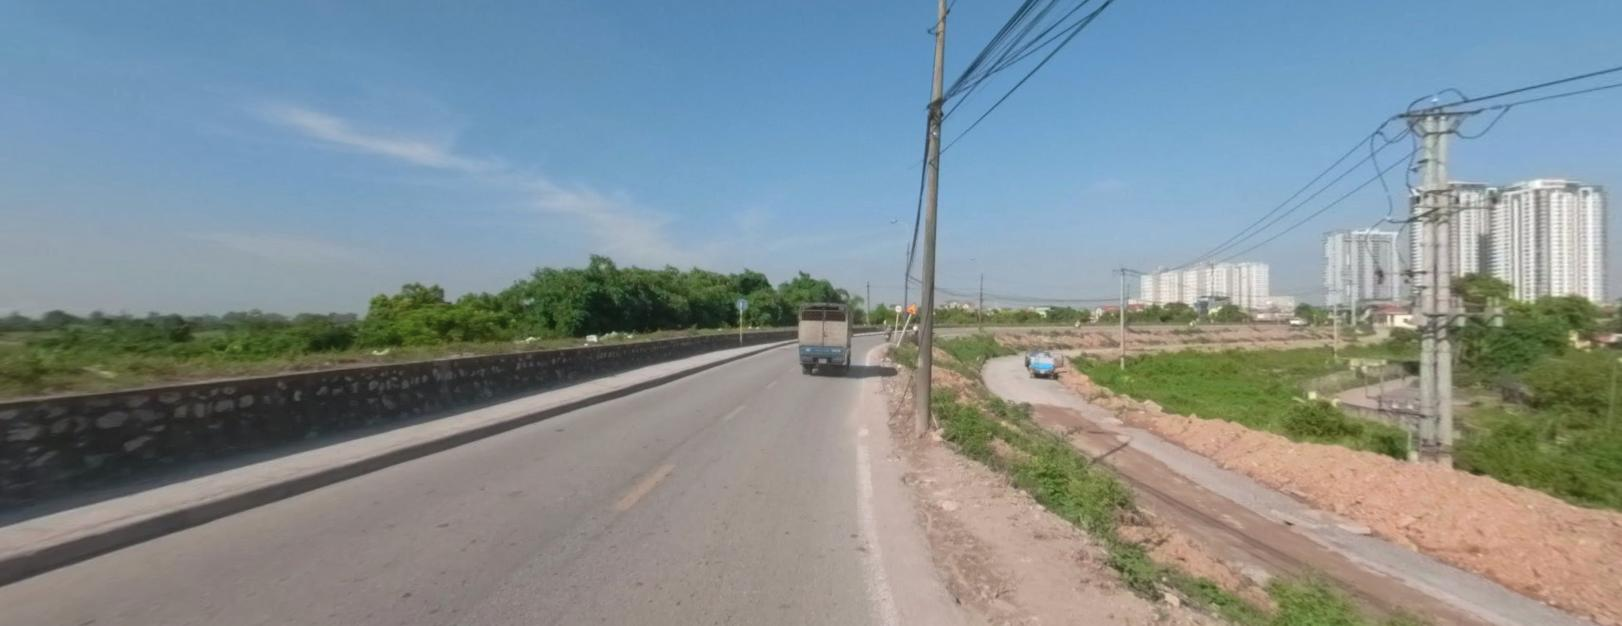Nguy hiem: (906, 300, 917, 313), (905, 301, 916, 312)
